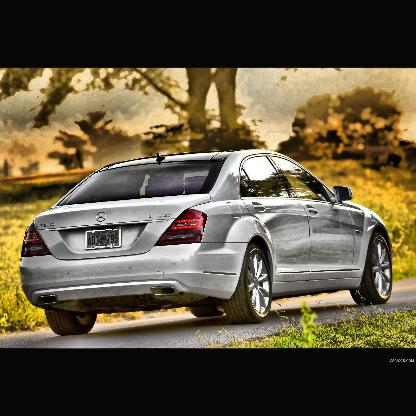Mercedes-Benz S-Class Sedan 2012: (19, 147, 395, 339)
